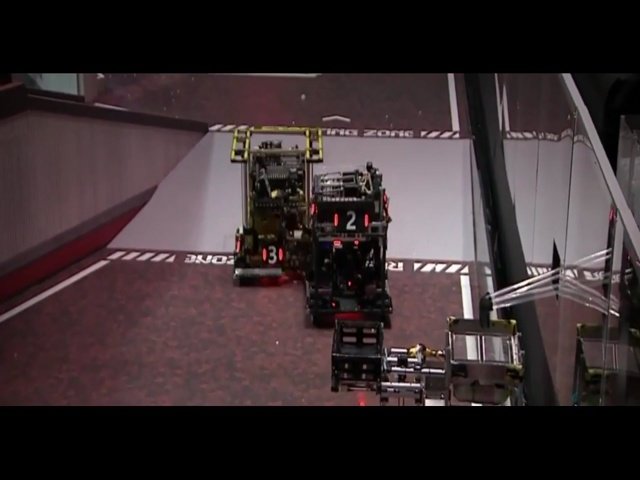bluePlate: (257, 253, 289, 278), (435, 303, 465, 329), (271, 187, 305, 208), (398, 167, 421, 186), (389, 304, 408, 325)
redPlate: (267, 321, 308, 351), (323, 314, 339, 344), (330, 197, 351, 217), (354, 196, 369, 212)
